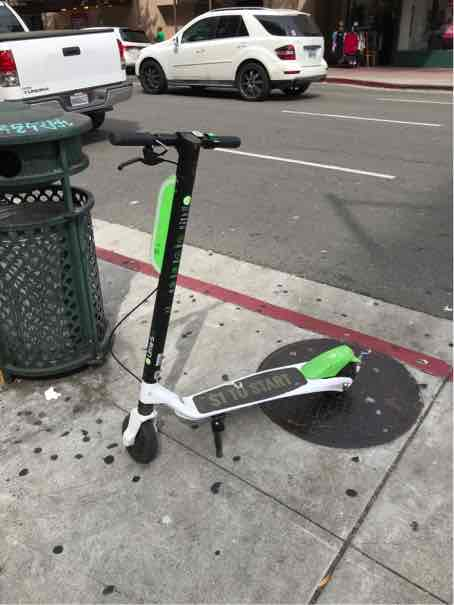scooter: (112, 120, 367, 472)
